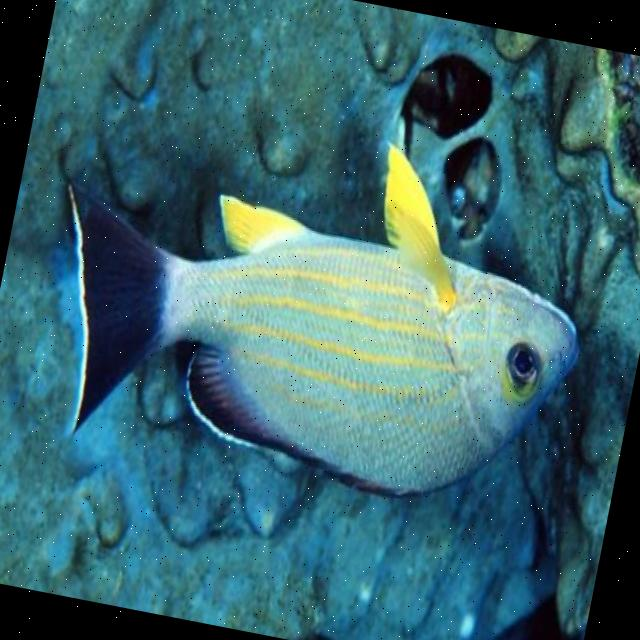ikan: (9, 80, 612, 534)
